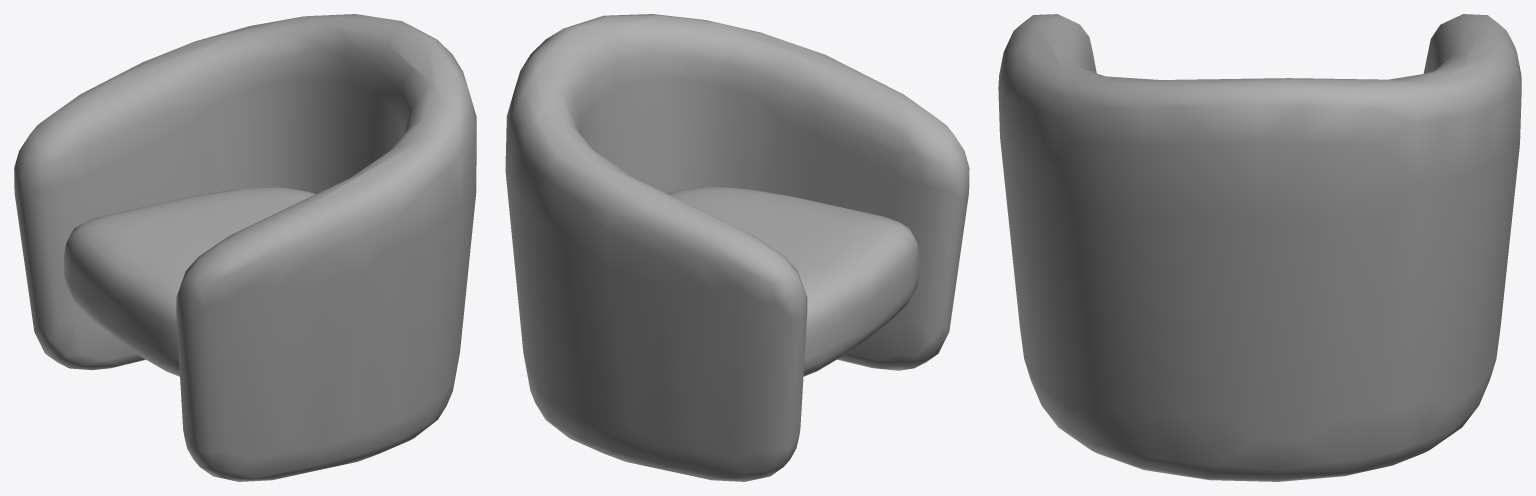
File: armchair_05_gray.fbx
3 views of the same model, side by side, from view 1: azimuth 30°, elevation 25°; view 2: azimuth 150°, elevation 25°; view 3: azimuth 270°, elevation 25° (orthographic). The views are drawn at different scales.
Parts seen in each view (by area): view 1: armchair_05_gray; view 2: armchair_05_gray; view 3: armchair_05_gray.
Part boxes in pixels (x1=…): armchair_05_gray: x1=14, y1=14, x2=476, y2=481; armchair_05_gray: x1=505, y1=14, x2=969, y2=481; armchair_05_gray: x1=998, y1=14, x2=1521, y2=481.
Size of the model in its own units: 113 by 103 by 120.
1 material, 1 textured.
